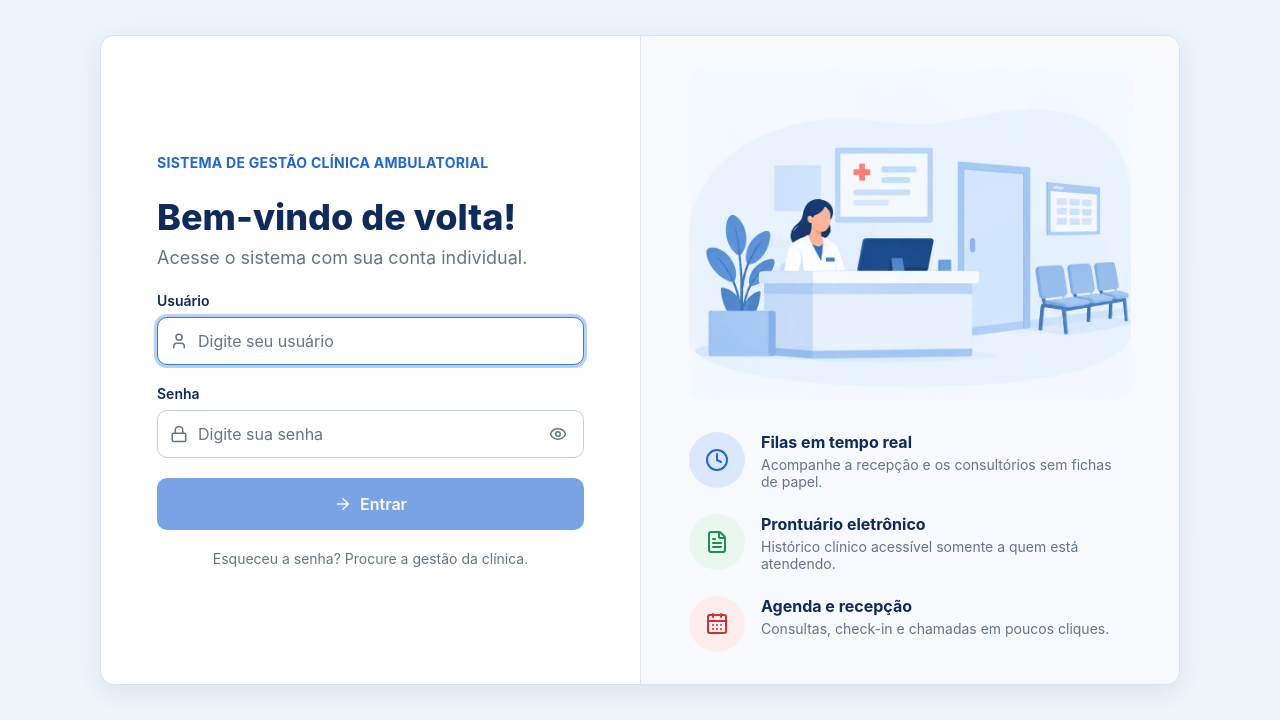
Test: LoginPage › entra com teclado e segue para o dashboard
Type "gestao.demo" into the field labelled "Usuário" at (384, 340), box [196, 330, 571, 352]
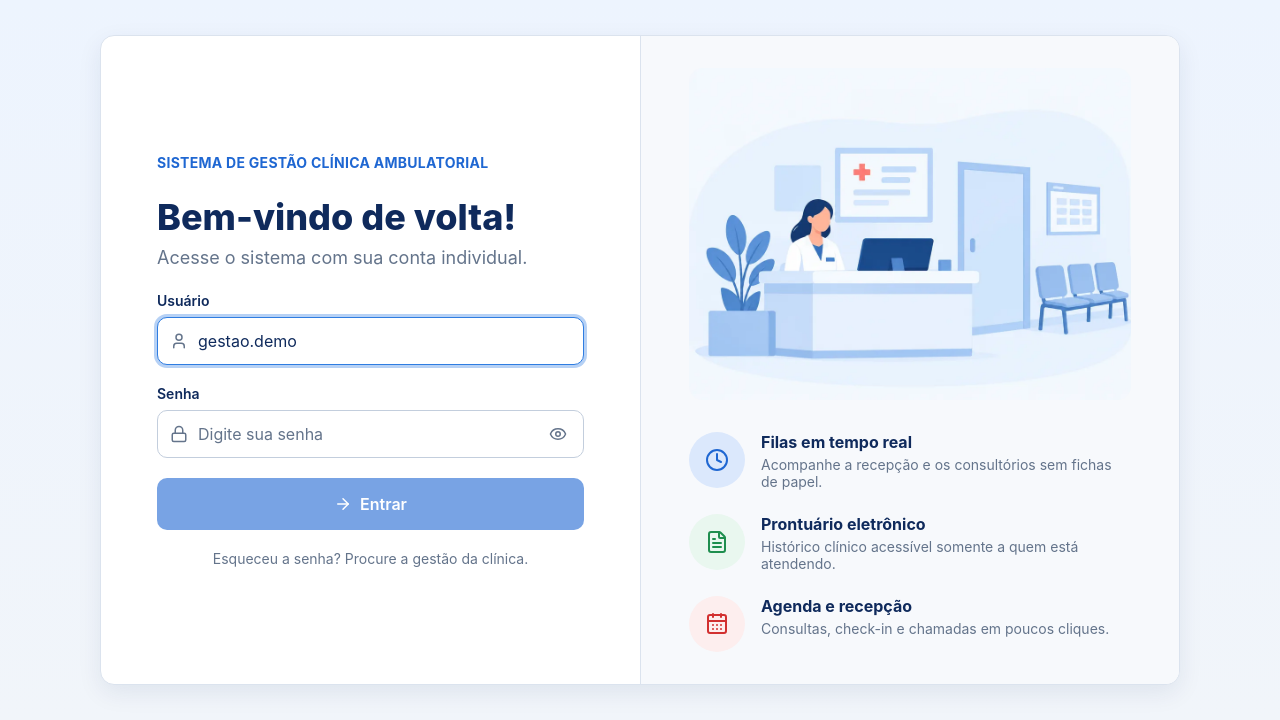
Type "senha-correta" into the password field labelled "Senha" at (366, 434), box [196, 422, 537, 444]
Then press Enter
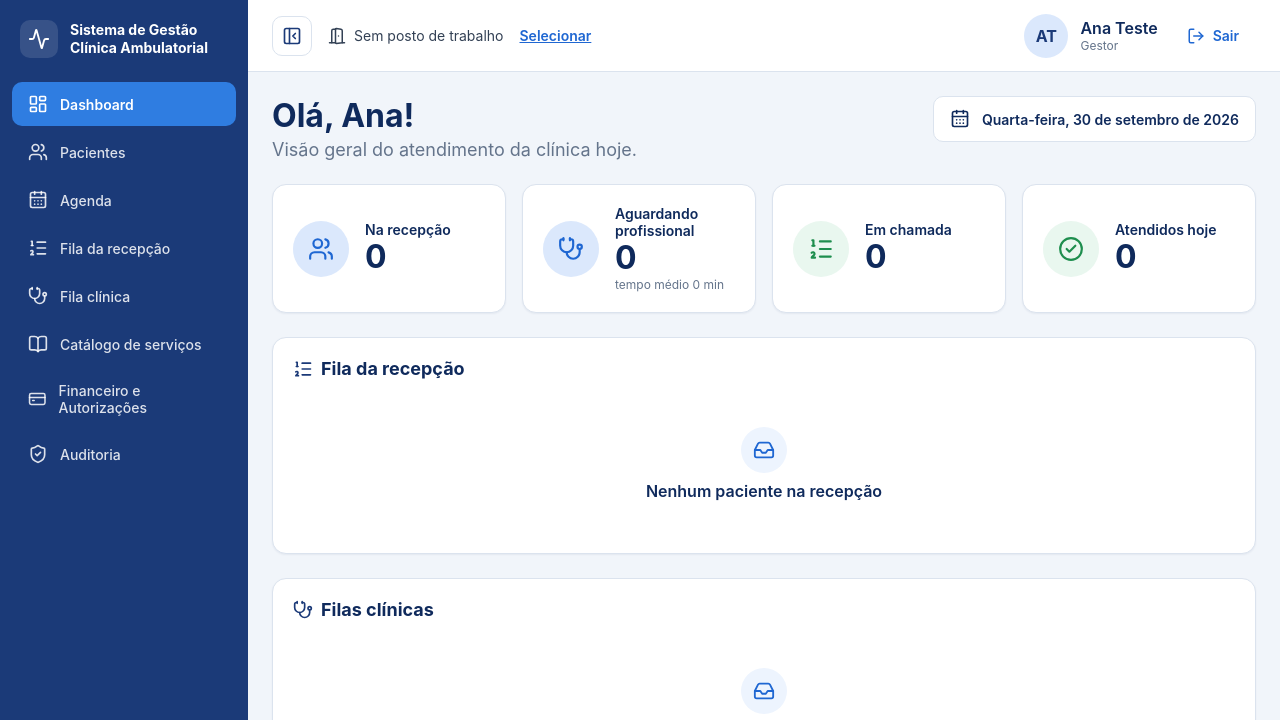
Now the heading "Olá, Ana!" is shown, box [272, 96, 414, 135]
